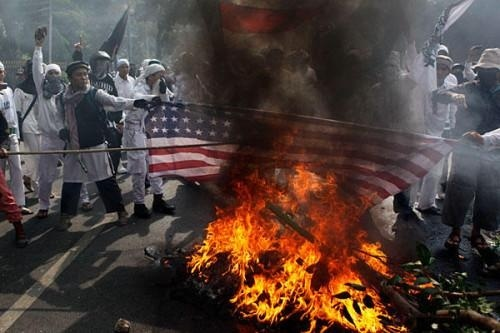fire: (185, 158, 402, 332)
